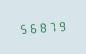eight: (38, 20, 47, 33)
five: (18, 21, 27, 35)
nine: (58, 18, 67, 32)
seven: (48, 19, 57, 32)
six: (28, 21, 37, 34)
